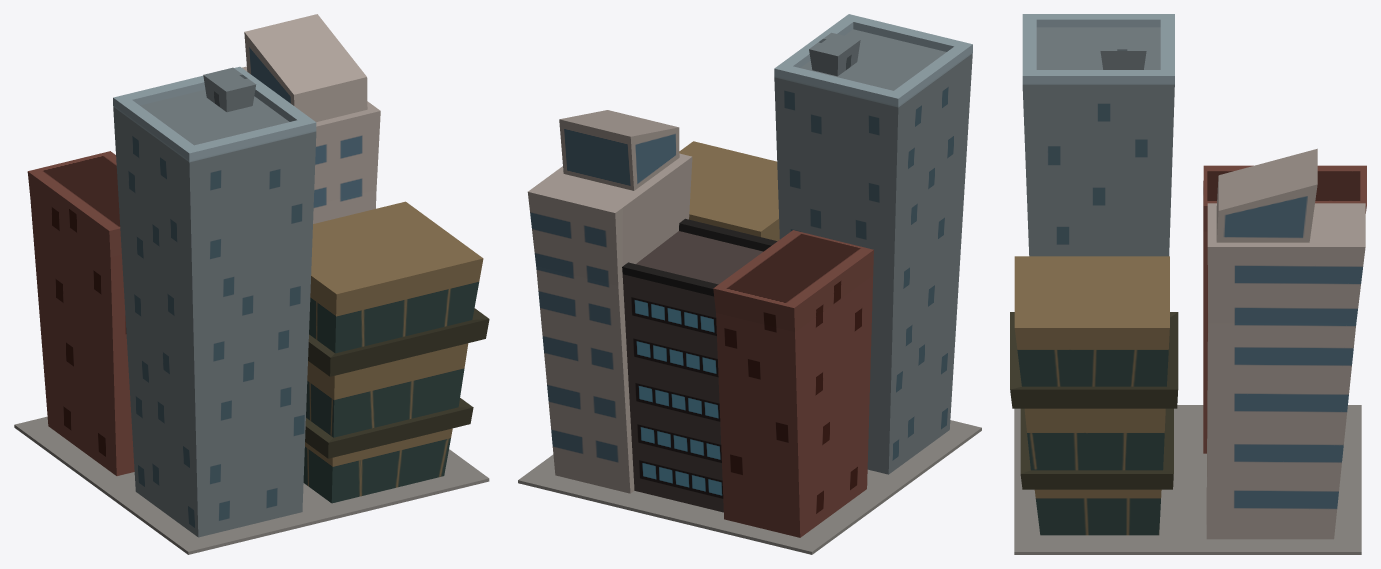
The model's file is SM_City_BuildingBlock_2x2.fbx.
3 views of the same model, side by side, from view 1: azimuth 30°, elevation 25°; view 2: azimuth 150°, elevation 25°; view 3: azimuth 270°, elevation 25° (orthographic). The views are drawn at different scales.
Parts seen in each view (by area): view 1: Cube.004; view 2: Cube.004; view 3: Cube.004.
Boxes of the visible parts, <box> form: Cube.004: <box>14,14,489,554</box>; Cube.004: <box>518,14,981,554</box>; Cube.004: <box>1010,14,1366,554</box>.
Size of the model in its own units: 20 by 26.15 by 20.55.
